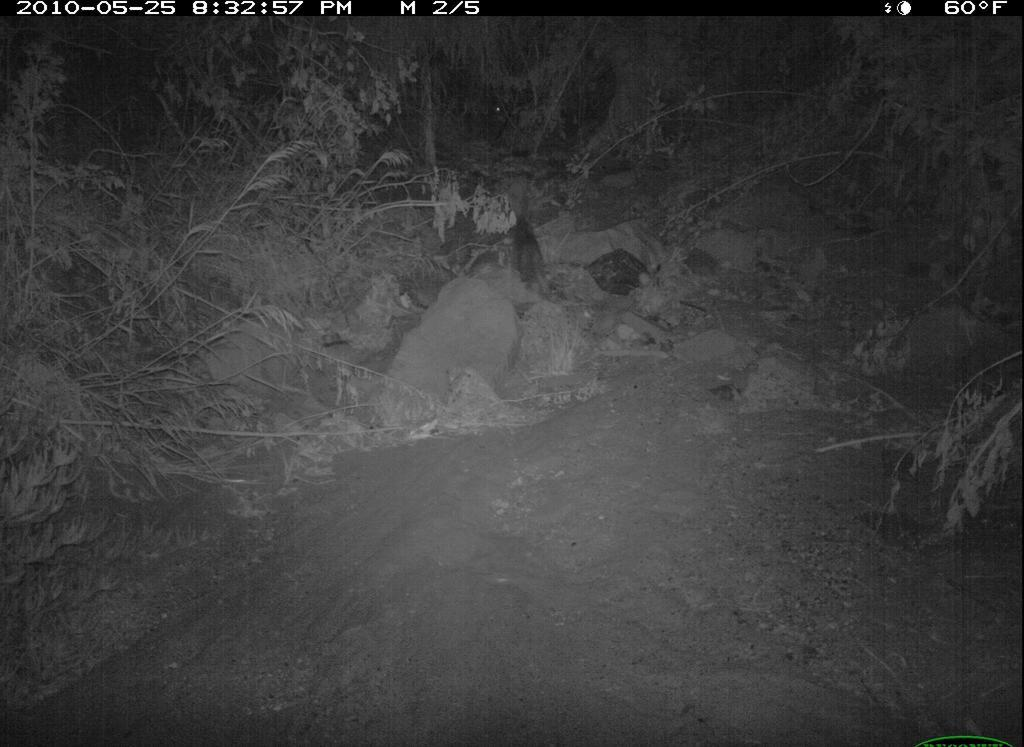cat: (500, 203, 565, 312)
